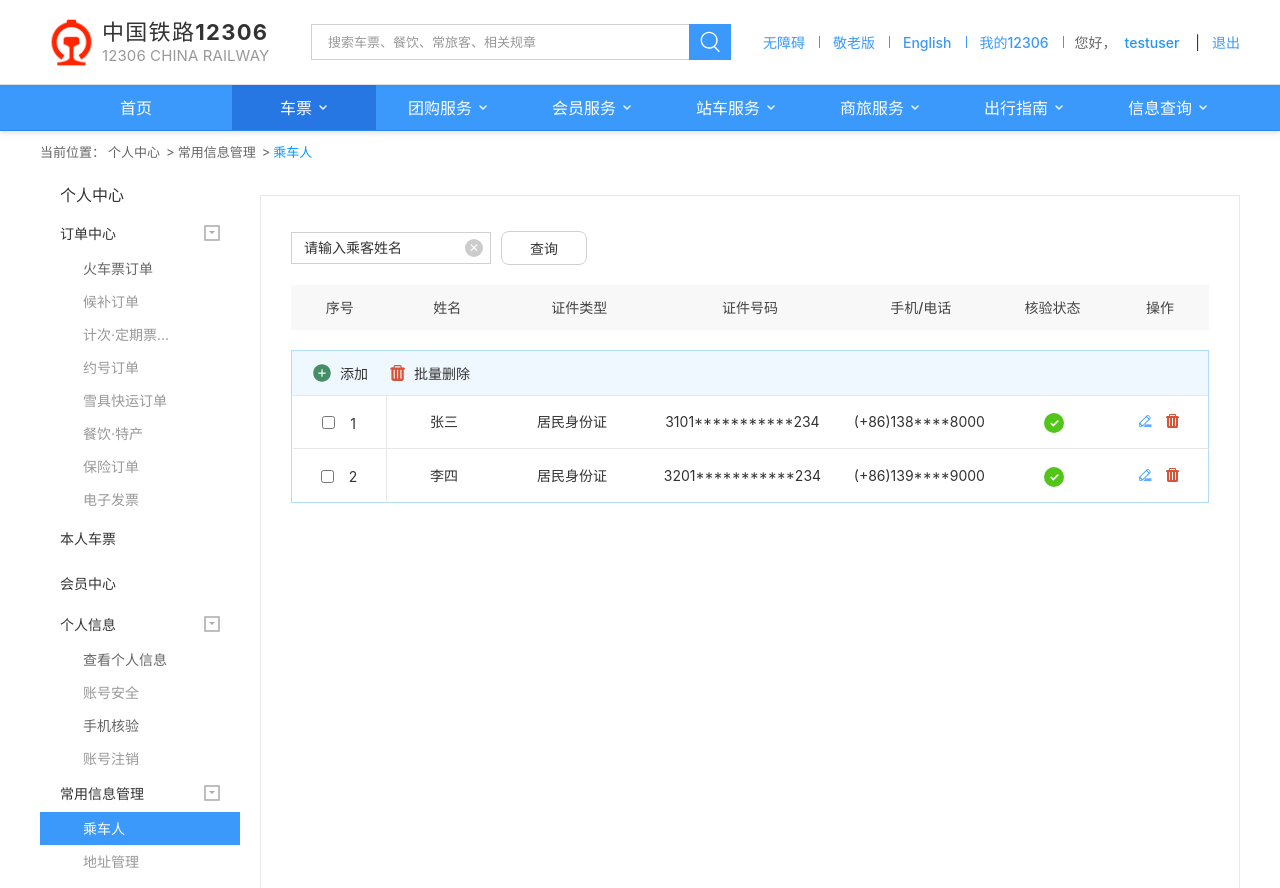
Test case: 乘客管理流程跨页测试 › [P0] 编辑乘客流程 › 应该能够完成编辑乘客的完整流程
Expected: the text "张三" is shown, [387,395,501,449]
Click the button titled "修改" in the row of "张三": [1145, 421] box [1137,413,1153,429]
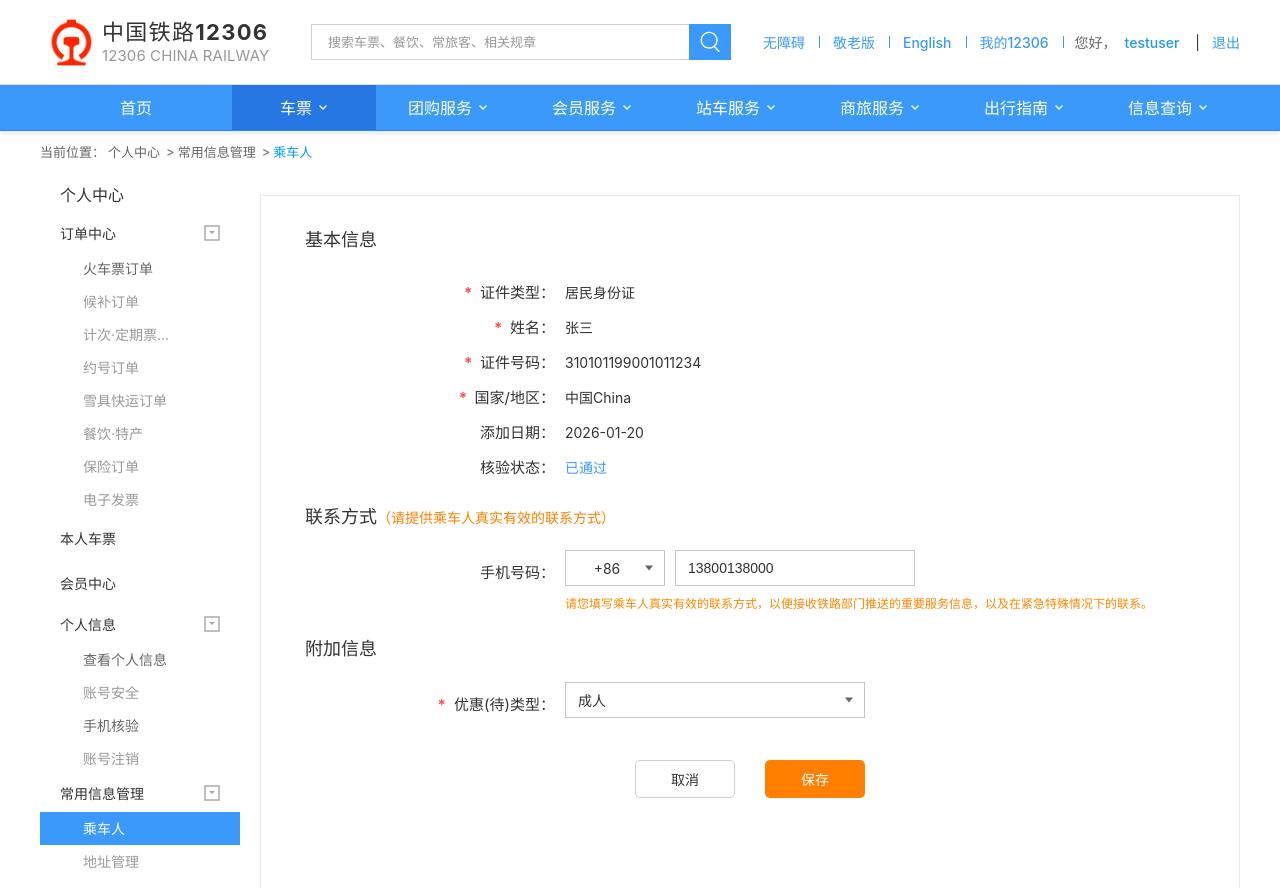
Expected: the text "张三" is shown, [565,318,593,336]
Result: the element with class "edit-passenger-panel" is shown at [261,196,1239,828]
Result: the field with placeholder "请填写手机号码" is shown
Replace the text in the field with placeholder "请填写手机号码" with "13600136000": [795, 568] box [675,550,915,586]
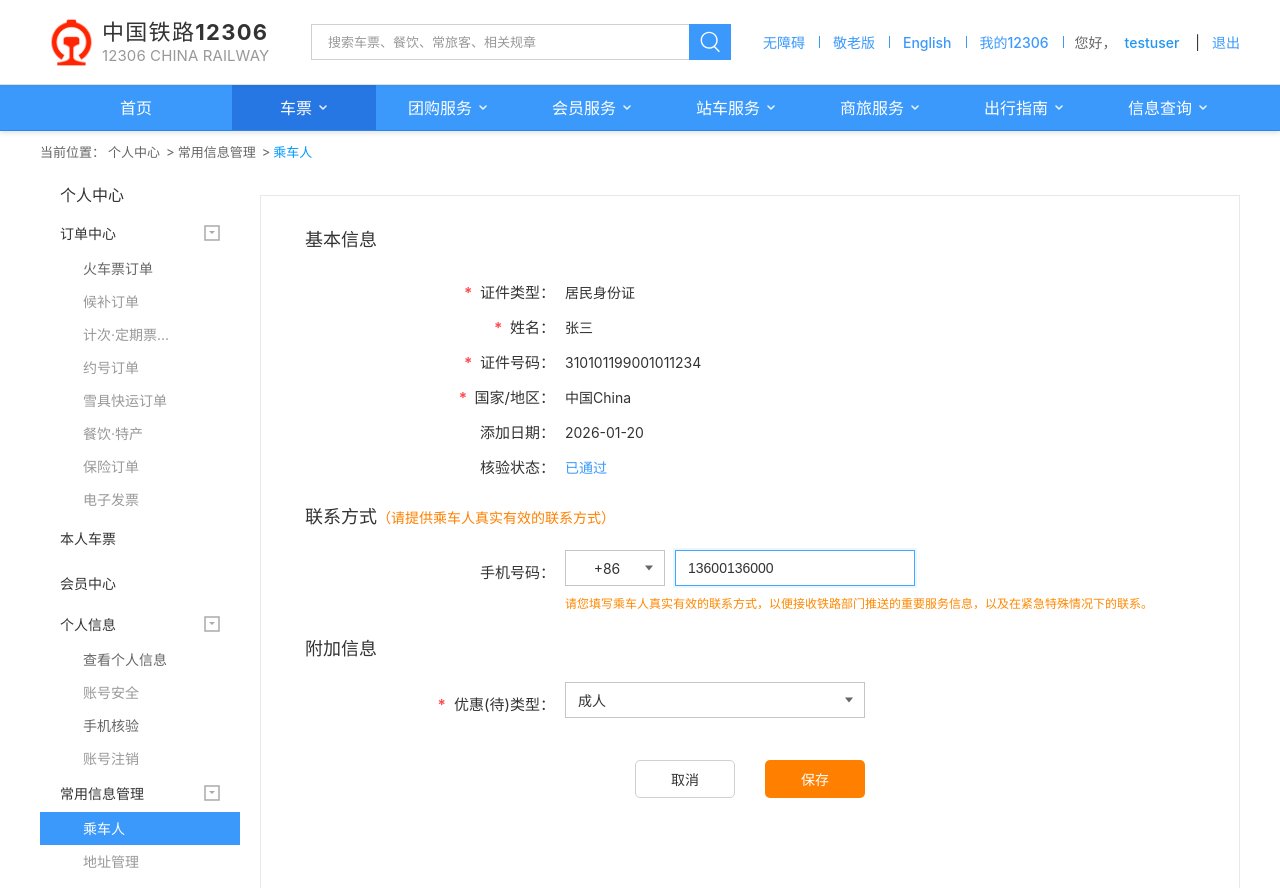
Note: And: 点击保存按钮
Click the button "保存": [815, 779] box [765,760,865,798]
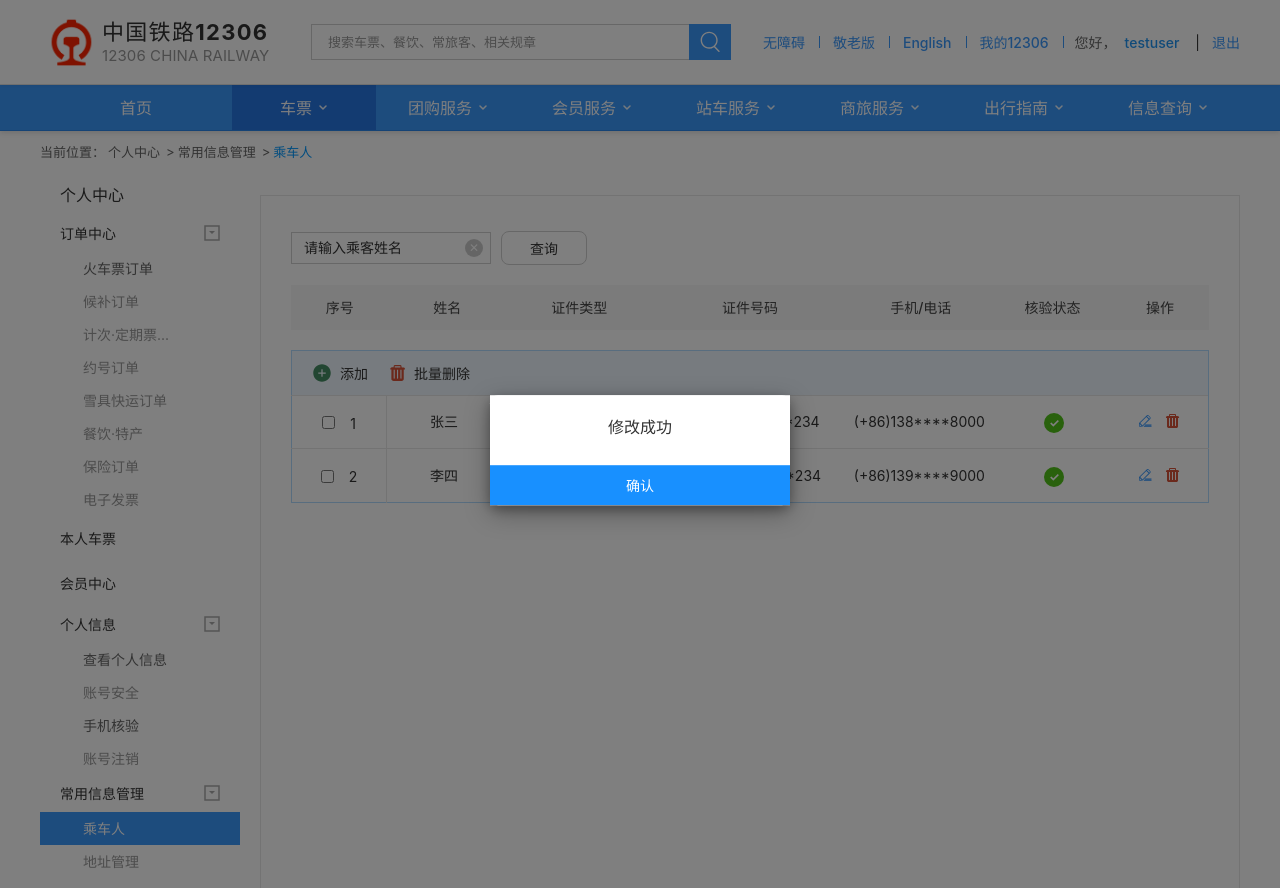
Result: the element that starts with "证件类型" is shown at [291,210,1209,503]
